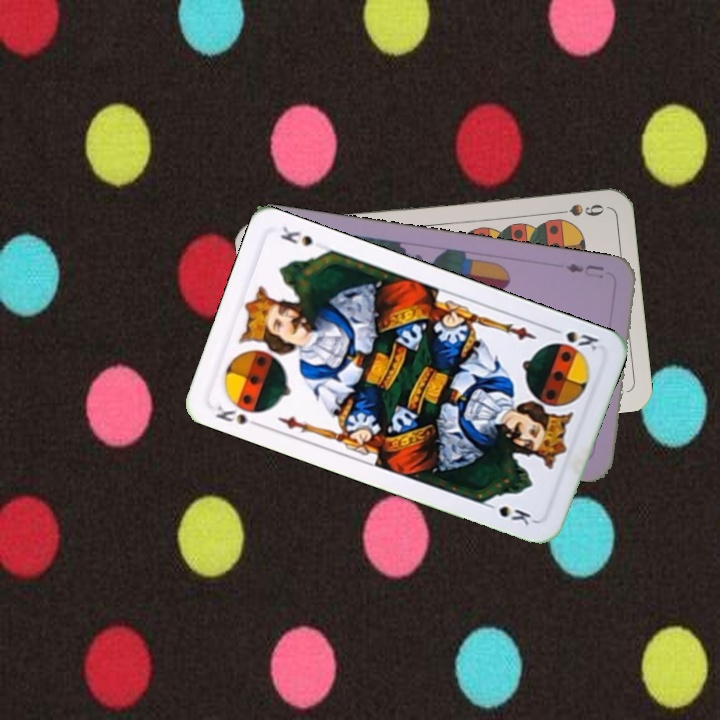EU: (562, 259, 607, 281)
S9: (548, 200, 607, 219)
SK: (545, 323, 601, 354), (211, 401, 265, 428)
